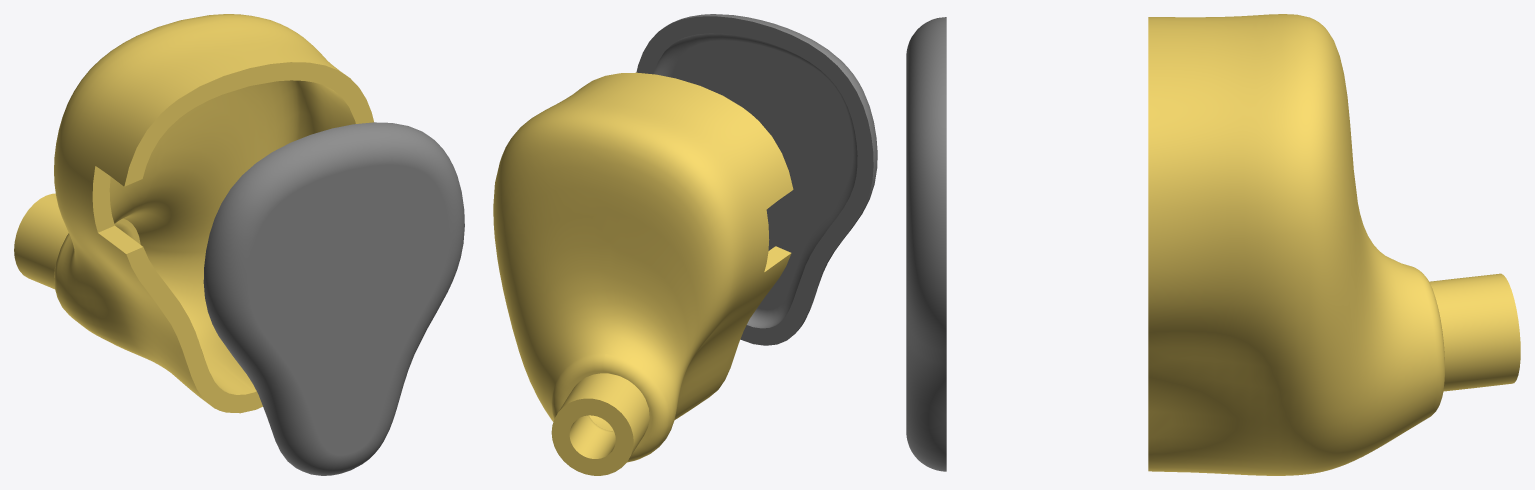
The model's file is iem2.glb.
The picture shows the model from 3 angles, left to right: view 1: azimuth 30°, elevation 25°; view 2: azimuth 150°, elevation 25°; view 3: azimuth 270°, elevation 25°; orthographic projection. The views are drawn at different scales.
Parts seen in each view (by area): view 1: IEM1, IEM1-cap; view 2: IEM1, IEM1-cap; view 3: IEM1, IEM1-cap.
Boxes of the visible parts, box(x1,y1,x2,y2) form: IEM1: box(14, 14, 373, 413); IEM1-cap: box(203, 122, 464, 475); IEM1: box(493, 72, 793, 475); IEM1-cap: box(636, 14, 877, 345); IEM1: box(1148, 14, 1520, 475); IEM1-cap: box(906, 17, 946, 471).
Bounding box in the file's own units: 0.0185 × 0.0232 × 0.0304.
